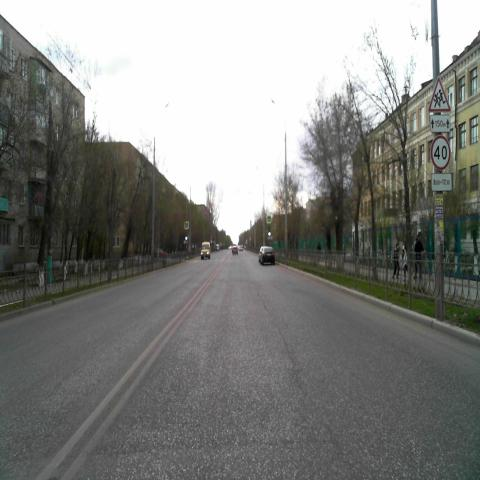3_24: (431, 134, 451, 168)
8_2_1: (430, 115, 450, 132)
8_5_4: (432, 172, 452, 190)
